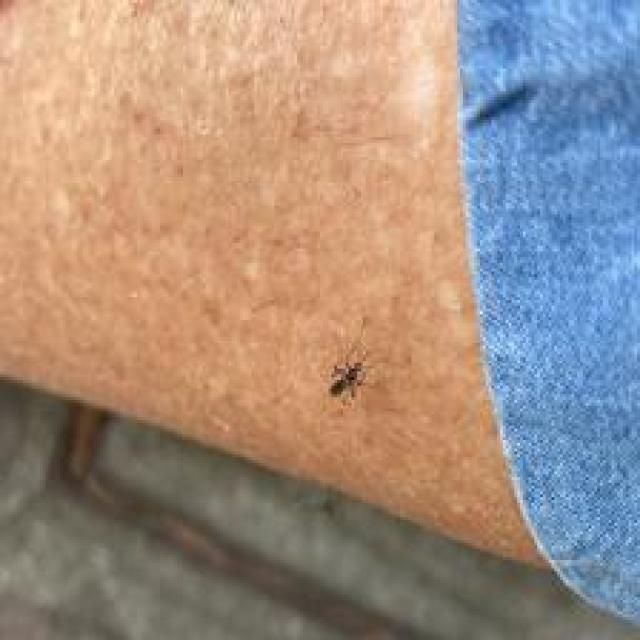Aedes albopictus: (327, 358, 367, 402)
